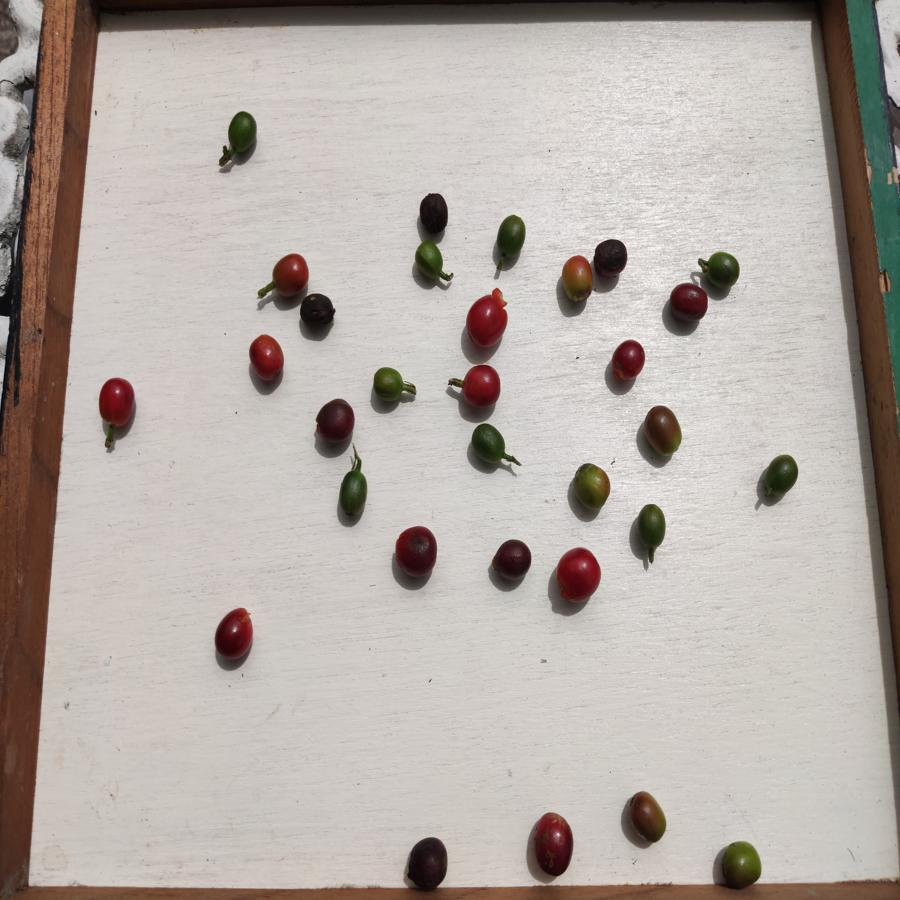Inmaduro: (333, 466, 371, 519), (470, 423, 510, 472), (222, 111, 261, 157), (702, 247, 743, 289), (635, 501, 670, 550), (762, 452, 800, 496), (370, 365, 406, 410), (413, 239, 447, 286), (495, 213, 526, 259)
Maduro: (555, 548, 602, 605), (464, 294, 509, 351), (249, 333, 288, 384), (96, 377, 135, 428), (461, 363, 501, 409), (271, 252, 309, 298), (609, 337, 647, 383)
Pinton: (645, 407, 684, 460), (571, 461, 611, 510), (562, 256, 594, 301)
Sobremaduro: (211, 608, 257, 663), (393, 526, 440, 577), (314, 398, 356, 444), (492, 538, 532, 580), (593, 239, 628, 279), (418, 192, 449, 235), (299, 293, 336, 329)
